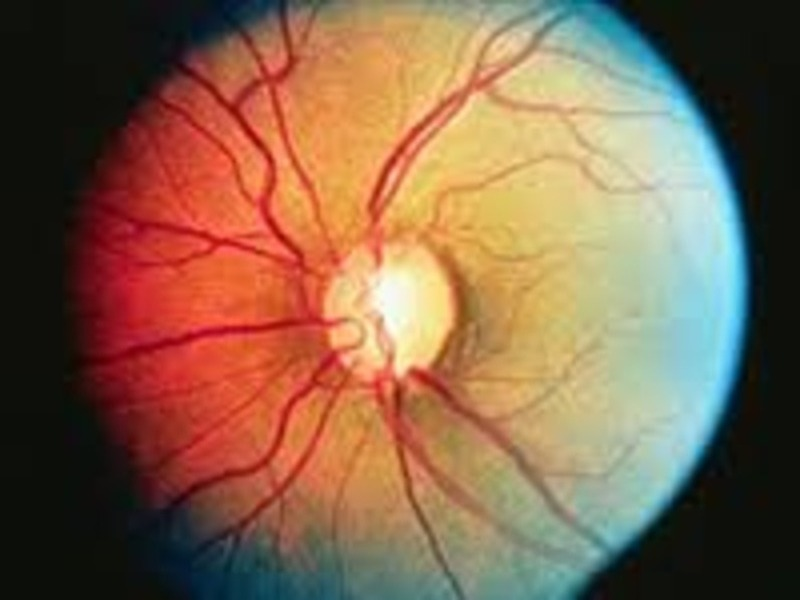Optic Cup: (376, 234, 434, 369)
Optic Disc: (321, 235, 463, 384)
